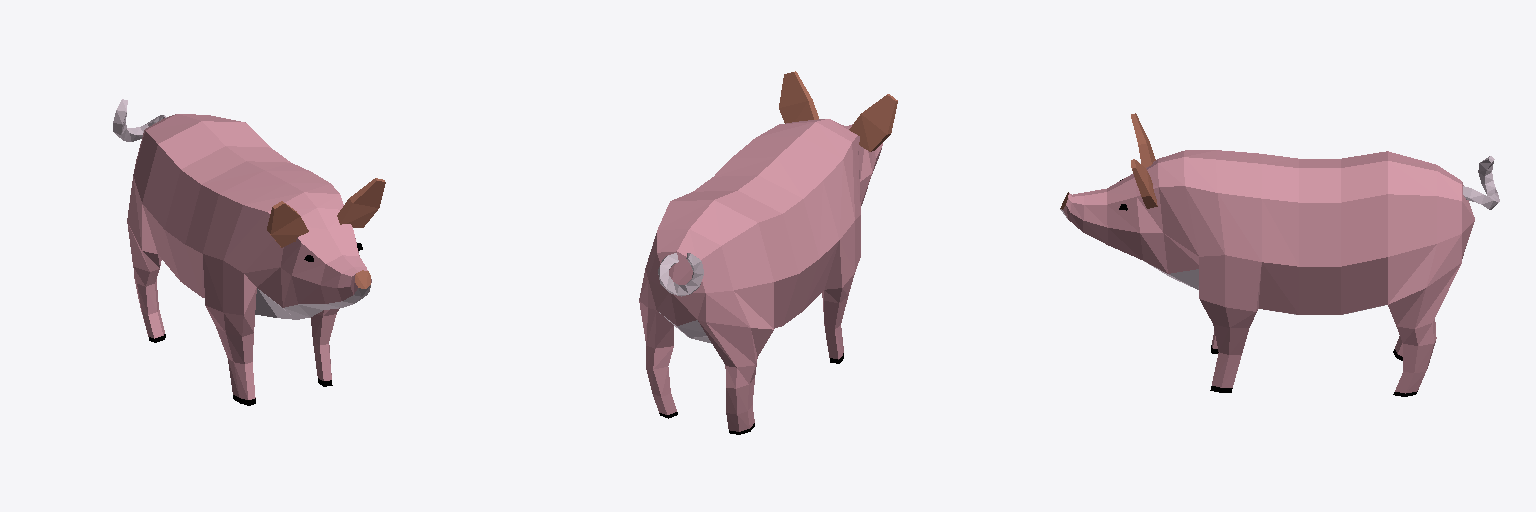
3 views of the same model, side by side, from view 1: azimuth 30°, elevation 25°; view 2: azimuth 150°, elevation 25°; view 3: azimuth 270°, elevation 25° (orthographic).
Visible parts, largest first — view 1: Geo_Pig; view 2: Geo_Pig; view 3: Geo_Pig.
Part boxes in pixels (x1,y1,x2,y2): Geo_Pig: (113, 99, 385, 405); Geo_Pig: (639, 71, 897, 434); Geo_Pig: (1060, 113, 1499, 396).
Bounding box in the file's own units: 53.81 × 98.57 × 164.
1 materials, 1 textured.